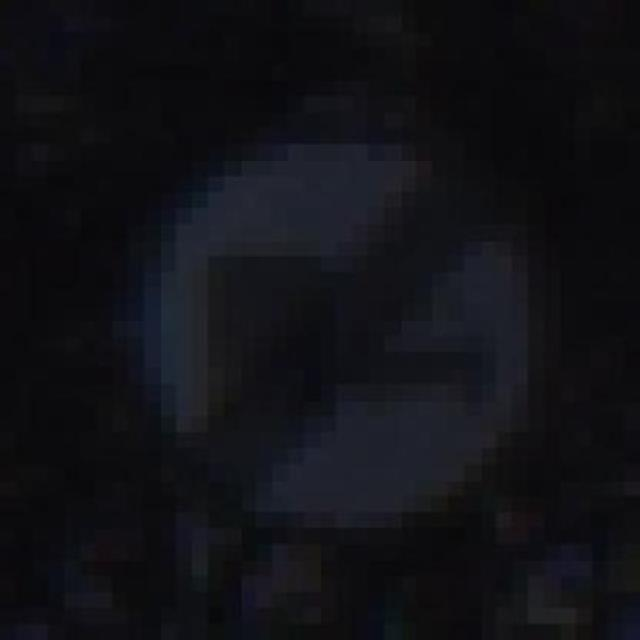Overtaking by trucks is prohibited: (112, 96, 560, 544)
